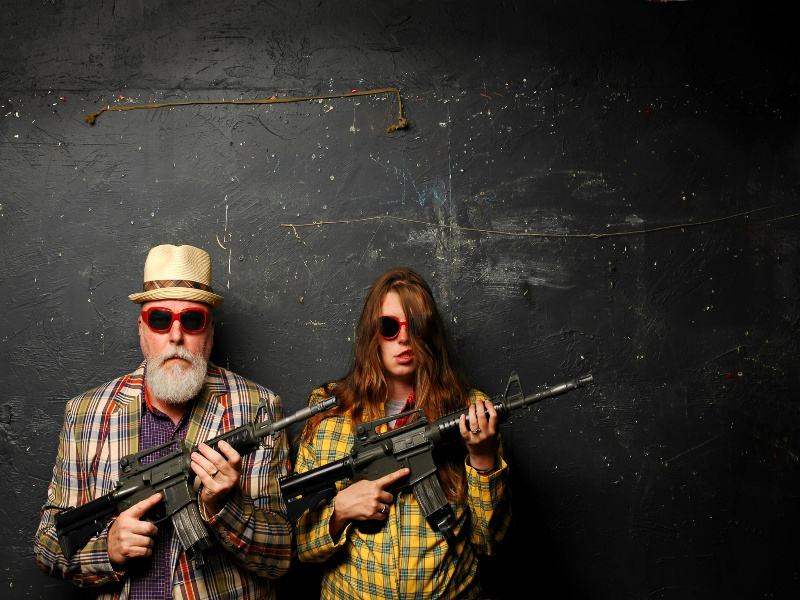person: (35, 244, 294, 600), (295, 268, 509, 600)
weapon: (278, 370, 596, 533), (54, 396, 340, 561)
